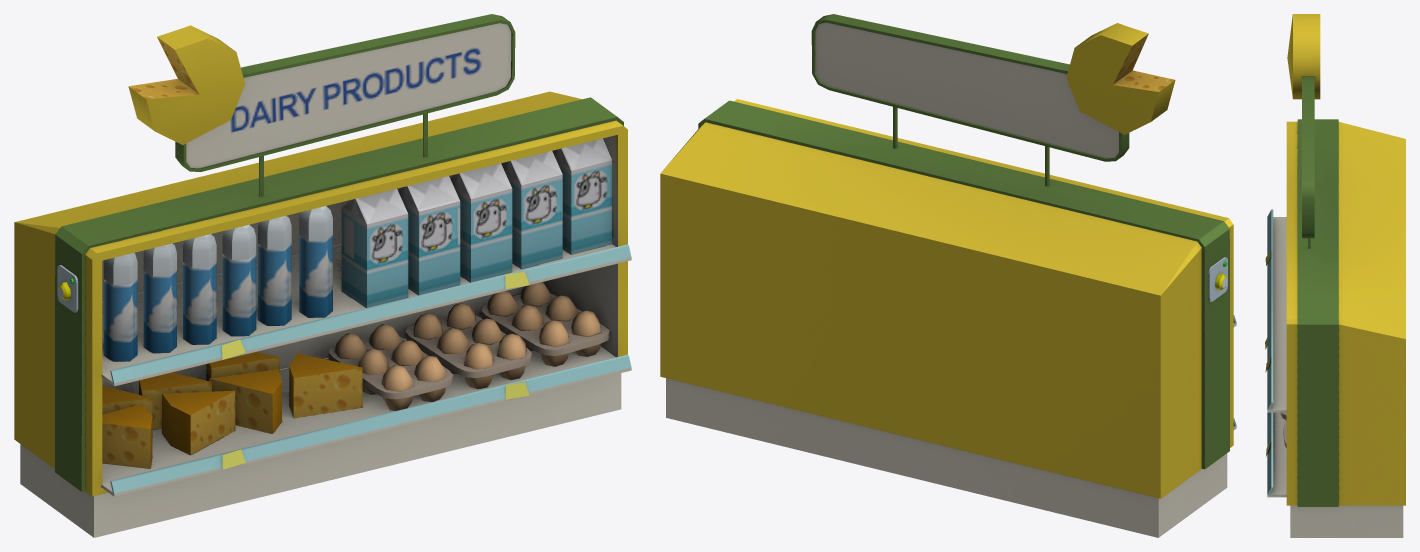
File: interior_shelf_dairy_products_001_gr_mesh.FBX
The picture shows the model from 3 angles, left to right: view 1: azimuth 30°, elevation 25°; view 2: azimuth 150°, elevation 25°; view 3: azimuth 270°, elevation 25°; orthographic projection. The views are drawn at different scales.
Parts seen in each view (by area): view 1: interior_shelf_dairy_products_001; view 2: interior_shelf_dairy_products_001; view 3: interior_shelf_dairy_products_001.
Boxes of the visible parts, box(x1,y1,x2,y2) form: interior_shelf_dairy_products_001: box(14, 14, 631, 537); interior_shelf_dairy_products_001: box(660, 14, 1236, 537); interior_shelf_dairy_products_001: box(1265, 14, 1405, 537).
Bounding box in the file's own units: 29.47 × 24.07 × 8.54.
